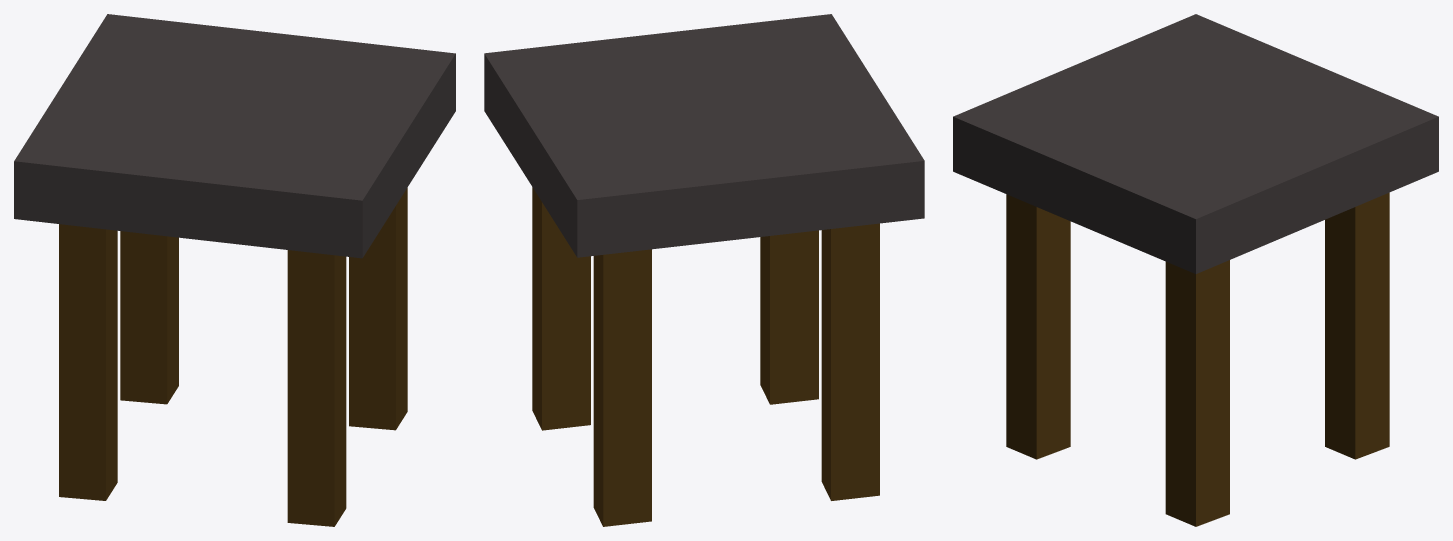
The model's file is obj_table_14_0.obj.
3 renders of one model, left to right at view 1: azimuth 30°, elevation 25°; view 2: azimuth 150°, elevation 25°; view 3: azimuth 270°, elevation 25°, orthographic. The views are drawn at different scales.
Size of the model in its own units: 1 by 0.75 by 1.
